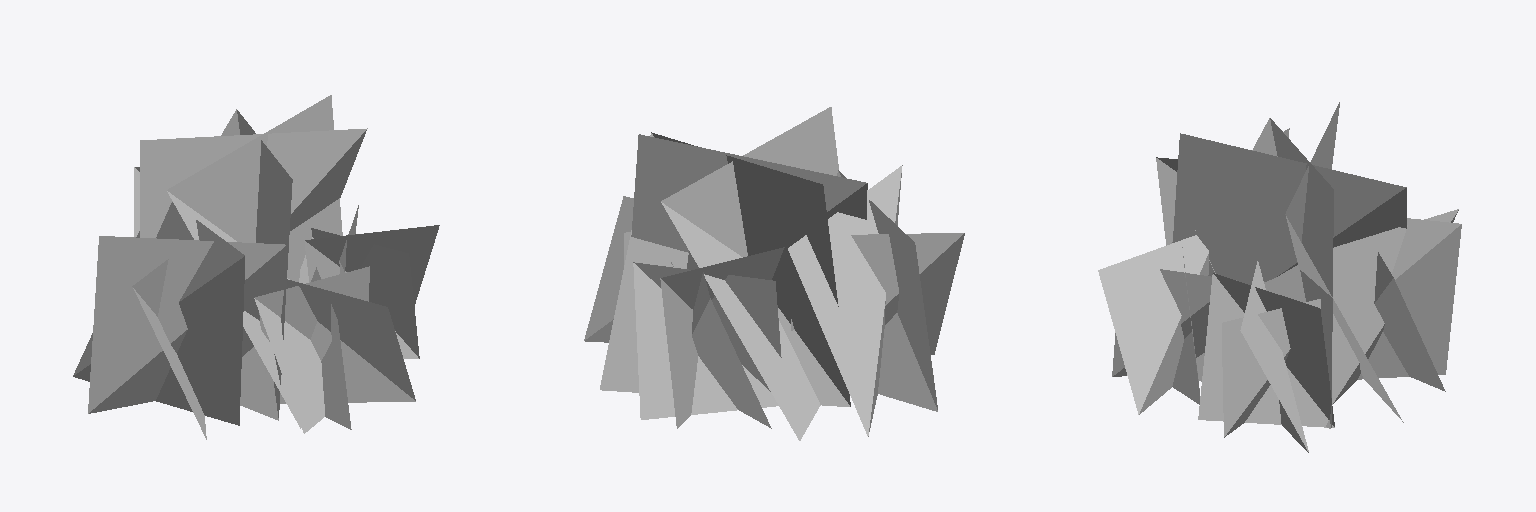
File: tundragrassobj01.obj
The picture shows the model from 3 angles: view 1: azimuth 30°, elevation 25°; view 2: azimuth 150°, elevation 25°; view 3: azimuth 270°, elevation 25°; orthographic projection.
Visible parts, largest first — view 1: TundraGrassObj01_0; view 2: TundraGrassObj01_0; view 3: TundraGrassObj01_0.
Part boxes in pixels (x1,y1,x2,y2): TundraGrassObj01_0: (73,95,439,439); TundraGrassObj01_0: (584,107,964,440); TundraGrassObj01_0: (1098,102,1461,452).
Size of the model in its own units: 110 by 72.3 by 102.